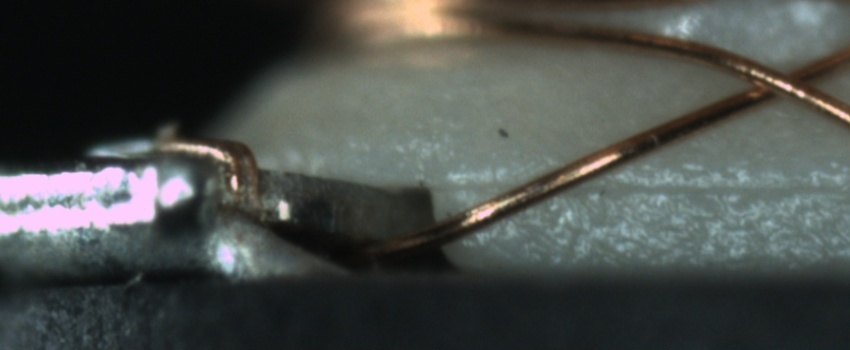CL: (727, 52, 833, 111)
DL: (453, 155, 849, 212)
TE: (140, 129, 263, 220)
